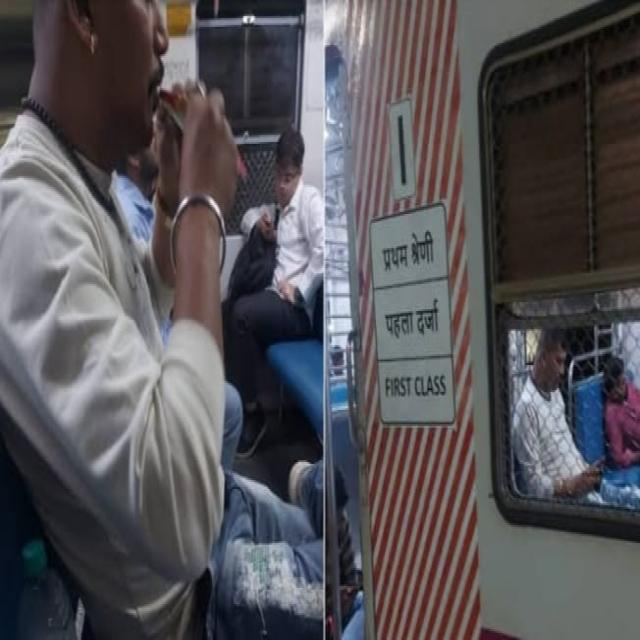Alcohol_Narcotics: (95, 8, 237, 242)
